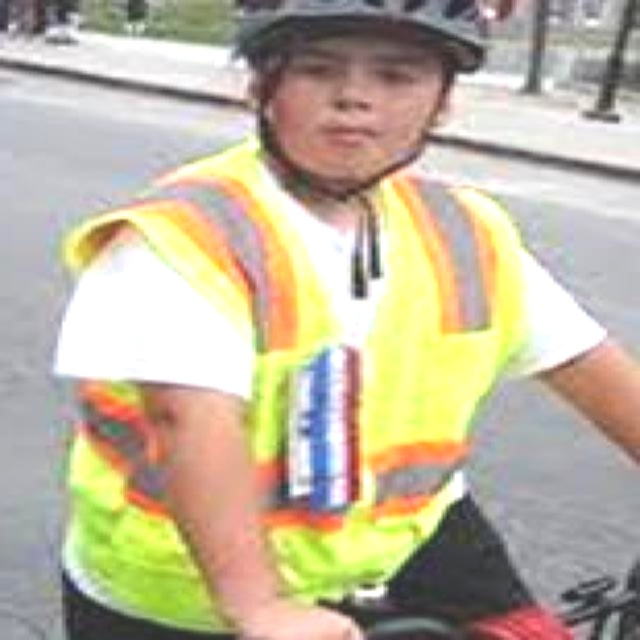Con_Chaleco: (52, 156, 520, 611)
